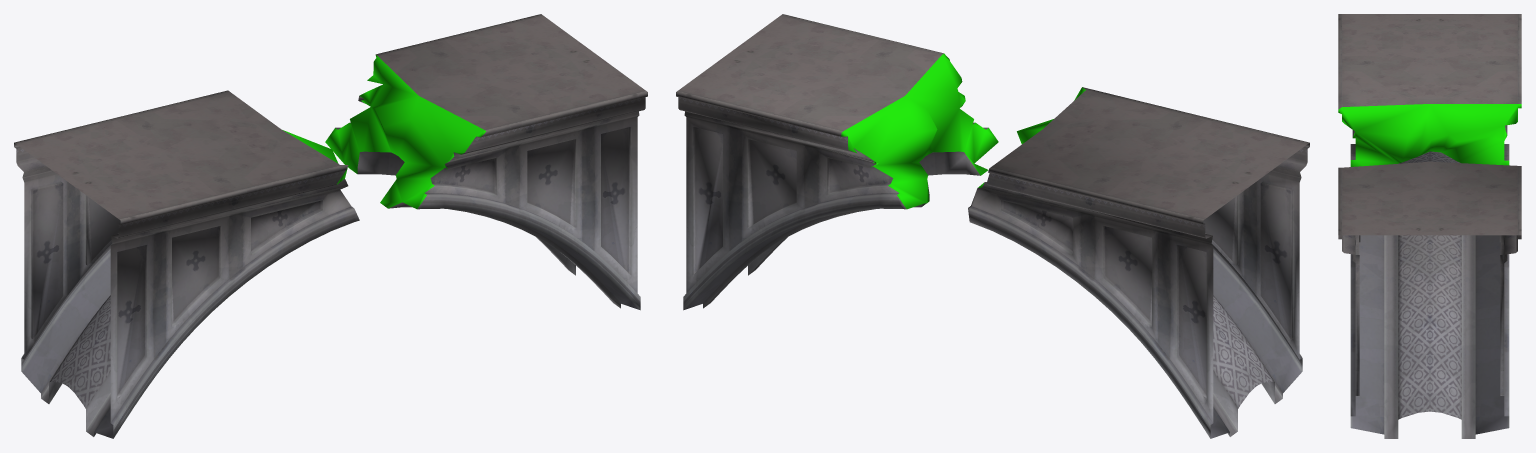
The model's file is SM_GiantArch._Broken.fbx.
The picture shows the model from 3 angles, left to right: view 1: azimuth 30°, elevation 25°; view 2: azimuth 150°, elevation 25°; view 3: azimuth 270°, elevation 25°; orthographic projection. The views are drawn at different scales.
Parts seen in each view (by area): view 1: SM_GiantArch._Broken; view 2: SM_GiantArch._Broken; view 3: SM_GiantArch._Broken.
Boxes of the visible parts, x1=… form: SM_GiantArch._Broken: x1=14, y1=14, x2=647, y2=438; SM_GiantArch._Broken: x1=676, y1=14, x2=1309, y2=438; SM_GiantArch._Broken: x1=1338, y1=14, x2=1521, y2=438.
Size of the model in its own units: 22.48 by 9.63 by 7.88.
2 materials, 1 textured.
